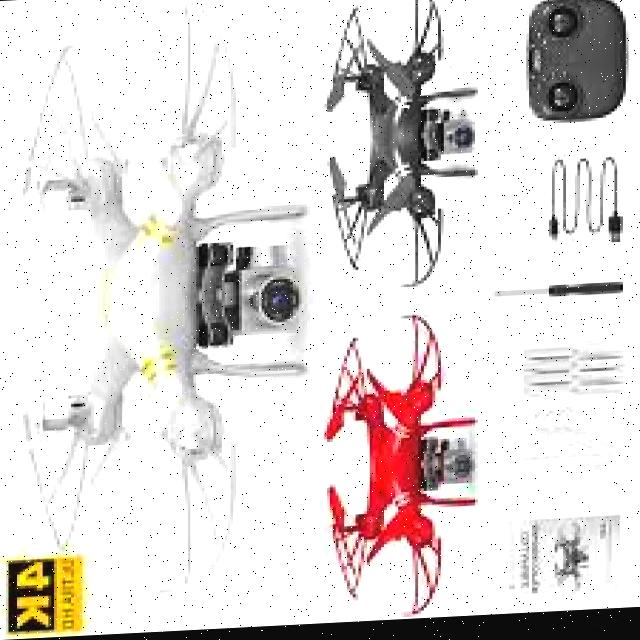drone: (31, 0, 310, 578), (311, 311, 491, 626), (308, 0, 492, 294)
